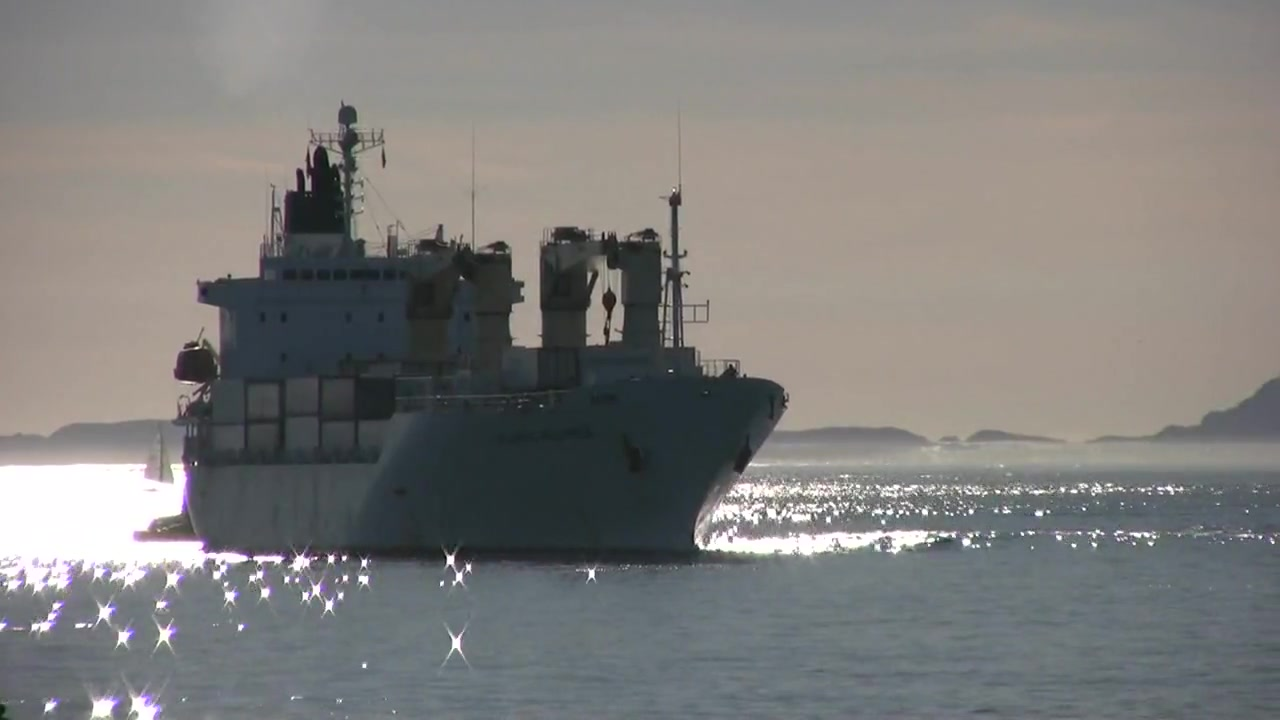boat: (179, 99, 790, 572), (129, 491, 199, 546), (139, 422, 179, 489)
